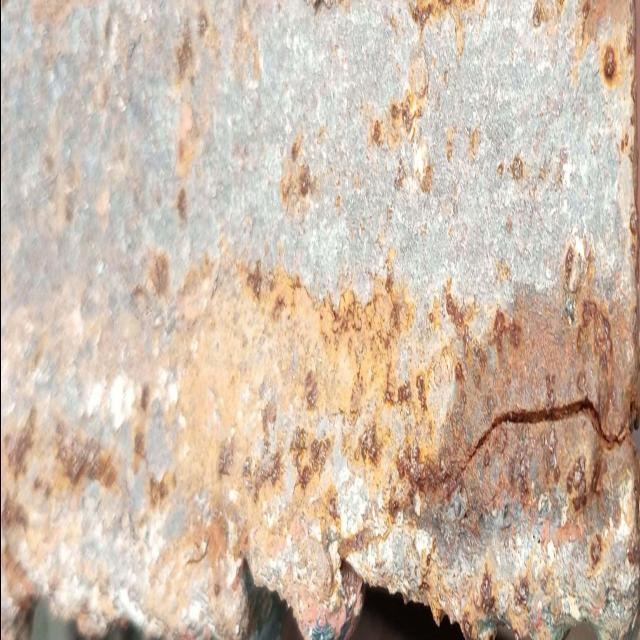Crack: (427, 389, 626, 522)
